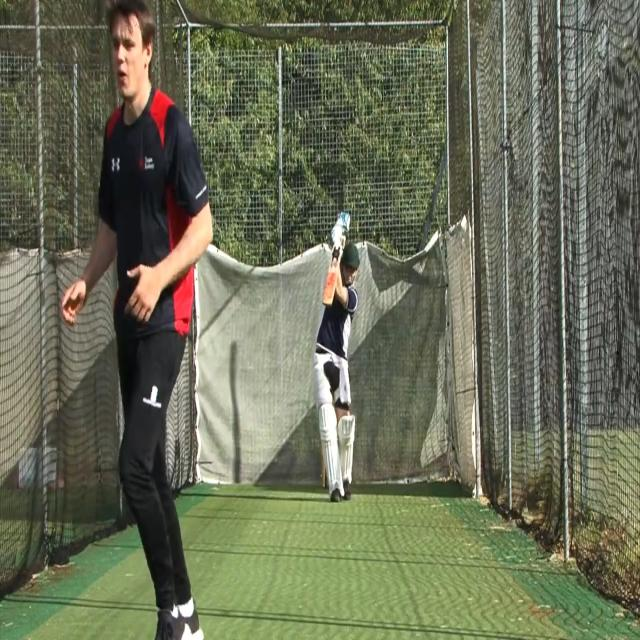batsman: (312, 208, 361, 504)
